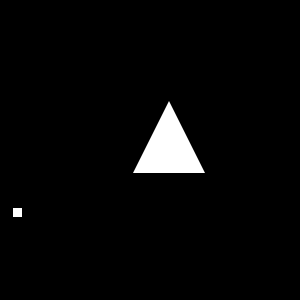circle: (13, 208, 22, 217)
triangle: (133, 101, 205, 173)
